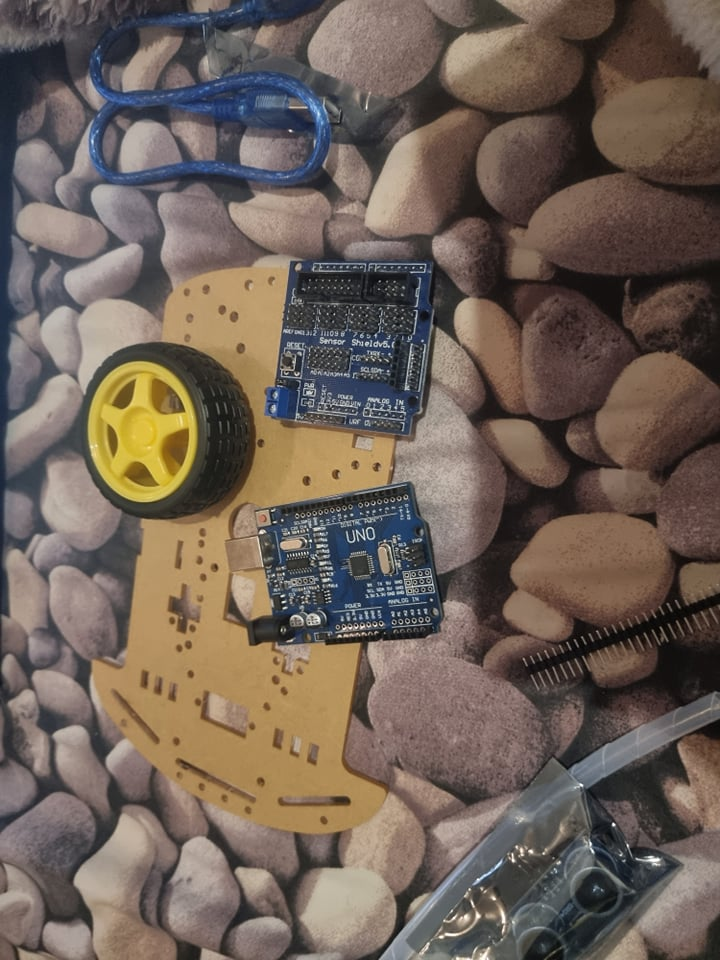5V EXPANSION: (264, 258, 428, 442)
SENSOR: (495, 838, 633, 960)
UNO R3: (227, 479, 446, 646)
